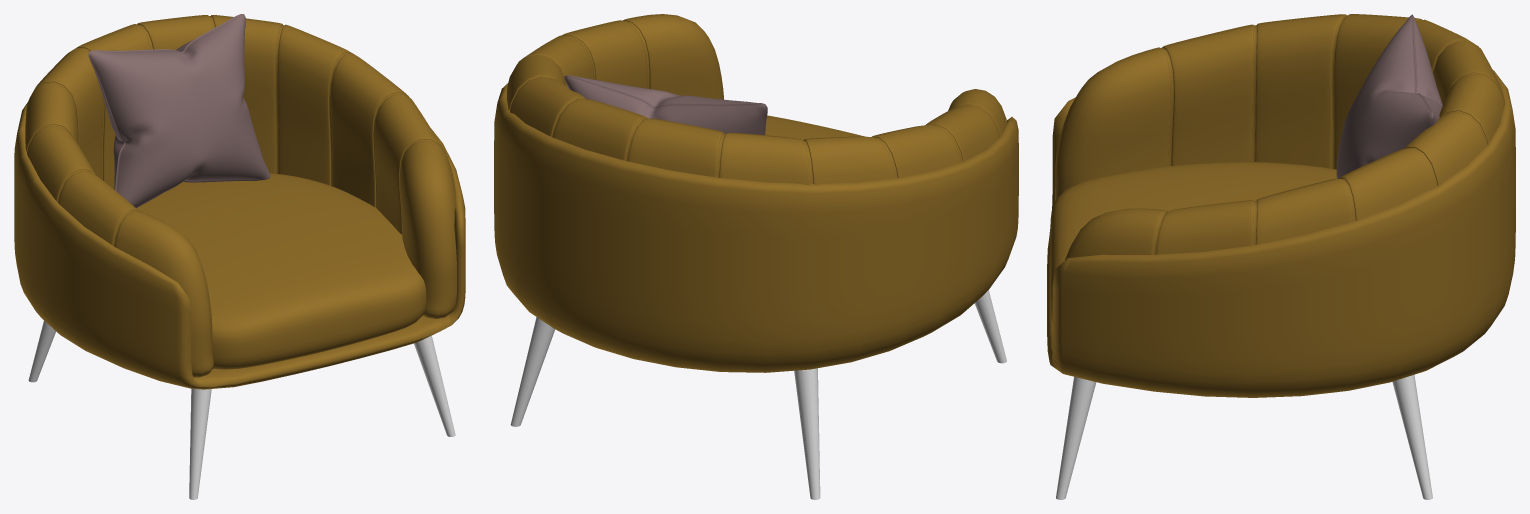
File: chair2.glb
3 views of the same model, side by side, from view 1: azimuth 30°, elevation 25°; view 2: azimuth 150°, elevation 25°; view 3: azimuth 270°, elevation 25° (orthographic). The views are drawn at different scales.
Parts seen in each view (by area): view 1: Cube001_3, Cube002_4, Cube_2, Plane_6, Cylinder_5; view 2: Cube_2, Cube001_3, Plane_6, Cylinder_5, Cube002_4; view 3: Cube_2, Cube001_3, Cube002_4, Plane_6, Cylinder_5.
Part boxes in pixels (x1,y1,x2,y2): Cube001_3: (25,15,456,377); Cube002_4: (136,173,426,369); Cube_2: (14,102,465,389); Plane_6: (88,14,270,208); Cylinder_5: (28,320,455,499); Cube_2: (494,83,1018,372); Cube001_3: (506,14,1007,185); Plane_6: (564,75,767,134); Cylinder_5: (510,290,1006,499); Cube002_4: (765,115,864,140); Cube_2: (1047,69,1515,397); Cube001_3: (1055,14,1504,260); Cube002_4: (1050,162,1336,322); Plane_6: (1336,14,1442,178); Cylinder_5: (1056,375,1432,499).
Bounding box in the file's own units: 1.69 × 1.39 × 1.6.
